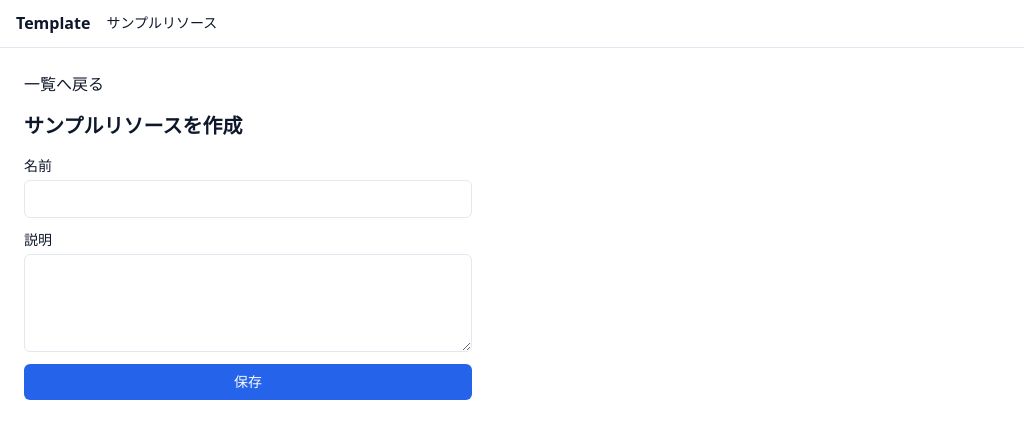
Test: sample resource create and edit › shows server field errors and does not keep a rejected create
This screenshot has width=1024, height=441.
Type "Alpha Widget" into the field labelled "名前" at (248, 199), box [24, 180, 472, 218]
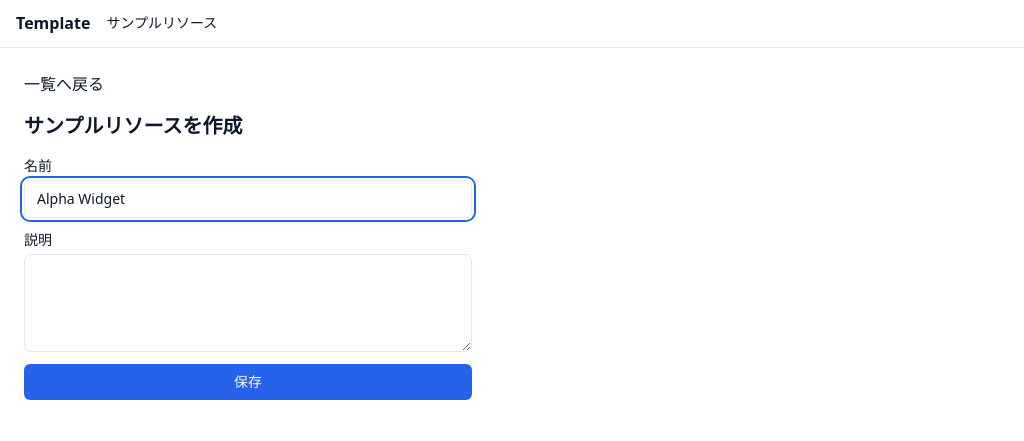
Click the button "保存" at (248, 382), box [24, 364, 472, 400]
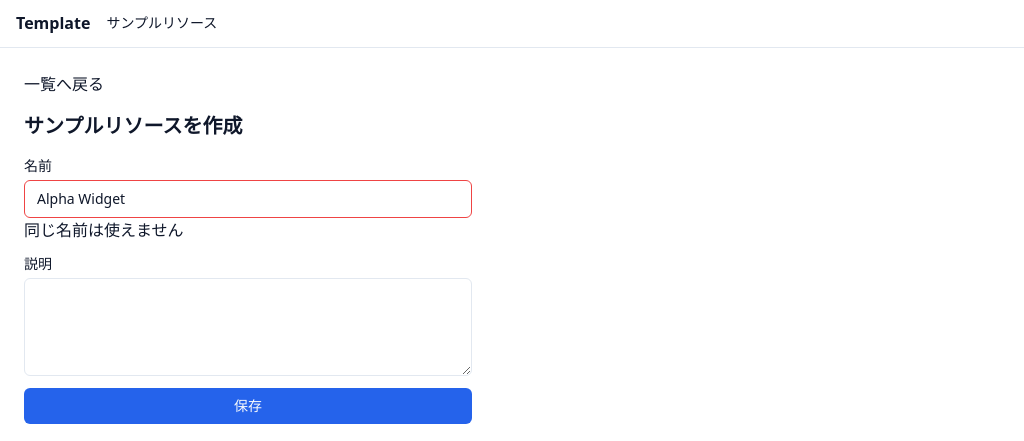
Expected: the heading "サンプルリソースを作成" is shown, [24, 112, 242, 139]
Now the message reads "同じ名前は使えません", box [24, 219, 184, 241]
Click the link "一覧へ戻る" at (64, 84), box [24, 73, 104, 95]
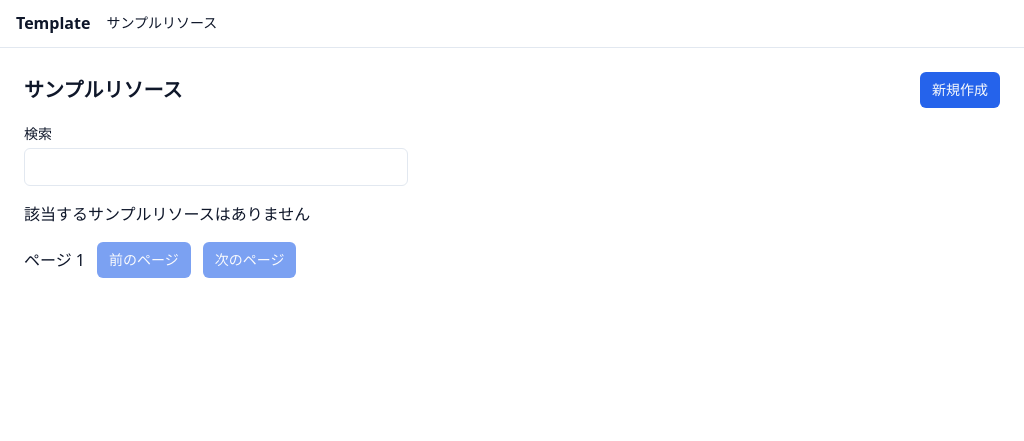
Expected: the text "Alpha Widget" is not shown
Now the text "該当するサンプルリソースはありません" is shown, box [24, 203, 310, 225]
